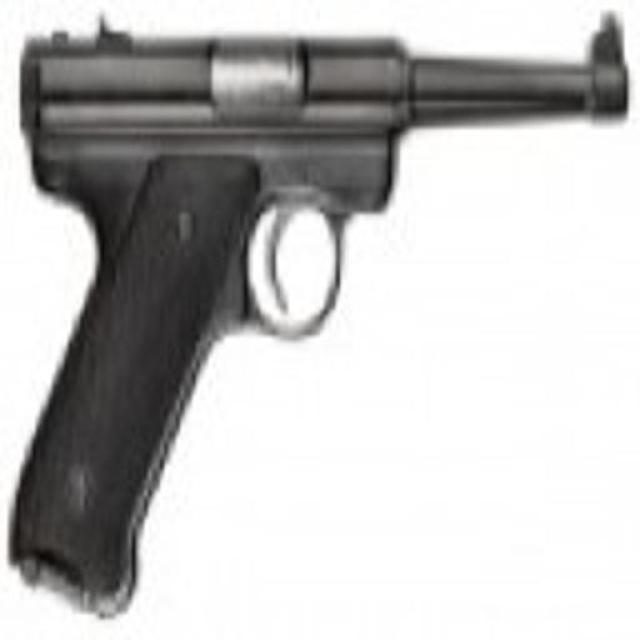pistol: (11, 10, 623, 612)
